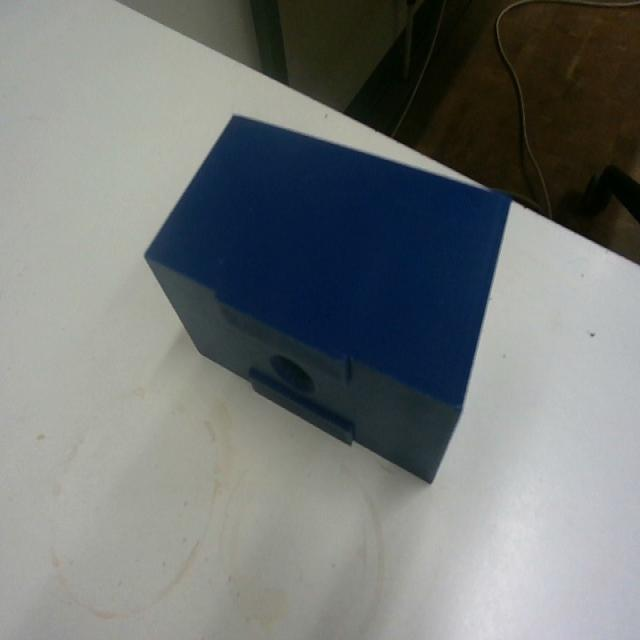Blue Cuboid: (142, 110, 514, 486)
